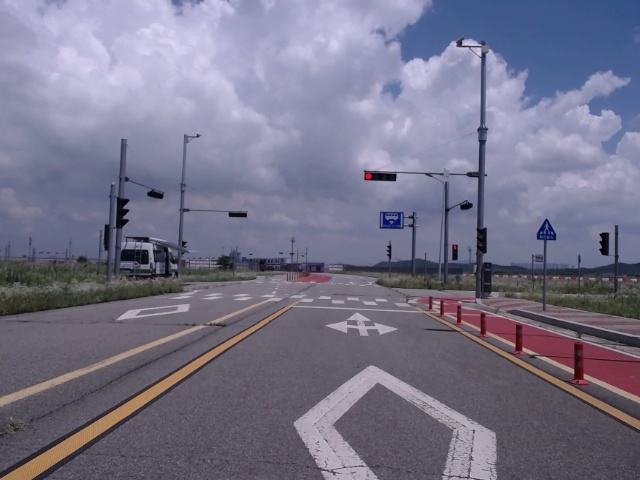red_4: (364, 172, 396, 181)
